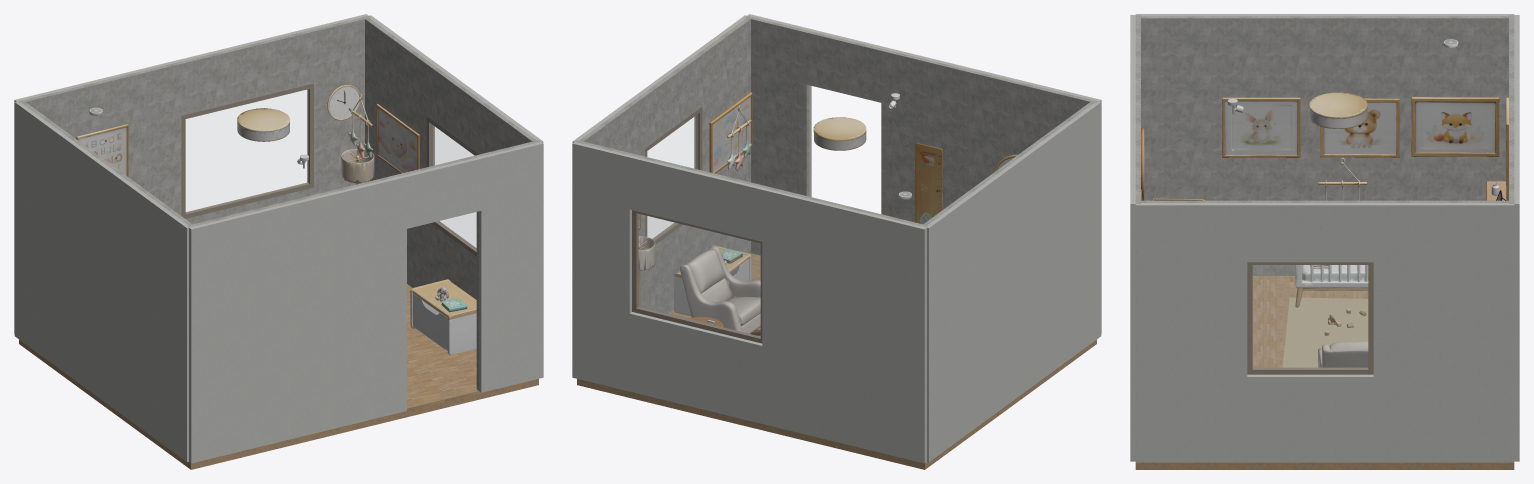
Rendered from scene_web.glb.
The picture shows the model from 3 angles, left to right: view 1: azimuth 30°, elevation 25°; view 2: azimuth 150°, elevation 25°; view 3: azimuth 270°, elevation 25°; orthographic projection. The views are drawn at different scales.
Parts seen in each view (by area): view 1: geometry_0.003, geometry_0.007, geometry_0, geometry_0.004, glass, Mesh_0, geometry_0.010, frame, geometry_0.020, glass.001, geometry_0.002, geometry_0.025 (+8 smaller); view 2: geometry_0.001, geometry_0.007, geometry_0.002, geometry_0.004, glass, geometry_0.011, Mesh_0, frame, geometry_0.021, geometry_0.019, glass.001, geometry_0.003 (+8 smaller); view 3: geometry_0.005, geometry_0.006, glass.001, Mesh_0, geometry_0.017, geometry_0.015, Mesh_0.001, geometry_0.016, geometry_0.001, geometry_0.003, frame.001, geometry_0.008 (+6 smaller).
Part boxes in pixels (bbox=[...]): geometry_0.003: bbox=[189, 142, 543, 463]; geometry_0.007: bbox=[14, 101, 188, 462]; geometry_0: bbox=[17, 16, 370, 224]; geometry_0.004: bbox=[365, 18, 536, 299]; glass: bbox=[186, 90, 308, 212]; Mesh_0: bbox=[19, 284, 538, 469]; geometry_0.010: bbox=[410, 279, 476, 355]; frame: bbox=[181, 83, 313, 218]; geometry_0.020: bbox=[376, 104, 419, 173]; glass.001: bbox=[431, 125, 476, 248]; geometry_0.002: bbox=[187, 140, 540, 390]; geometry_0.025: bbox=[237, 108, 289, 141]; geometry_0.001: bbox=[572, 142, 926, 463]; geometry_0.007: bbox=[927, 101, 1101, 462]; geometry_0.002: bbox=[745, 16, 1098, 255]; geometry_0.004: bbox=[579, 18, 750, 313]; glass: bbox=[638, 214, 760, 336]; geometry_0.011: bbox=[679, 246, 760, 335]; Mesh_0: bbox=[577, 253, 1096, 469]; frame: bbox=[632, 210, 762, 343]; geometry_0.021: bbox=[709, 92, 752, 173]; geometry_0.019: bbox=[915, 143, 943, 224]; glass.001: bbox=[647, 115, 697, 238]; geometry_0.003: bbox=[747, 14, 1101, 333]; geometry_0.005: bbox=[1135, 203, 1514, 462]; geometry_0.006: bbox=[1141, 16, 1508, 275]; glass.001: bbox=[1253, 265, 1367, 368]; Mesh_0: bbox=[1135, 276, 1514, 469]; geometry_0.017: bbox=[1411, 97, 1499, 156]; geometry_0.015: bbox=[1222, 97, 1300, 157]; Mesh_0.001: bbox=[1282, 297, 1368, 367]; geometry_0.016: bbox=[1320, 98, 1399, 157]; geometry_0.001: bbox=[1514, 15, 1519, 461]; geometry_0.003: bbox=[1130, 15, 1135, 461]; frame.001: bbox=[1247, 262, 1373, 374]; geometry_0.008: bbox=[1295, 265, 1368, 307].
Bounding box in the file's own units: 4.3 × 2.8 × 3.7.
48 materials, 46 textured.
